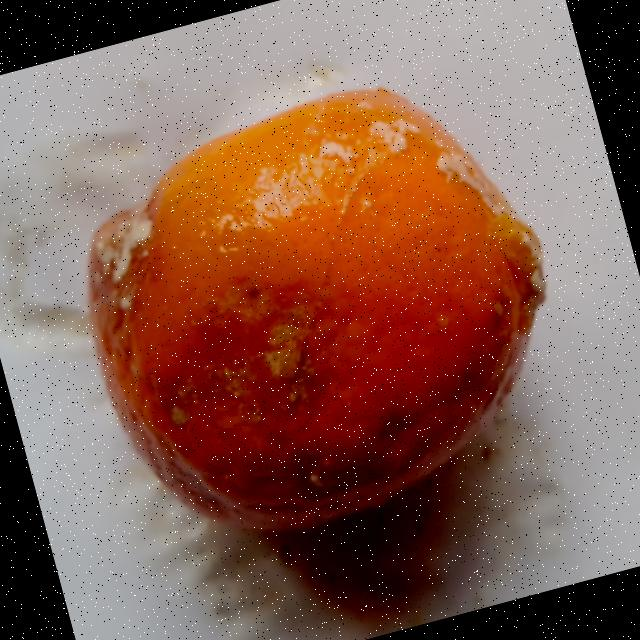Rotten: (49, 51, 596, 572)
